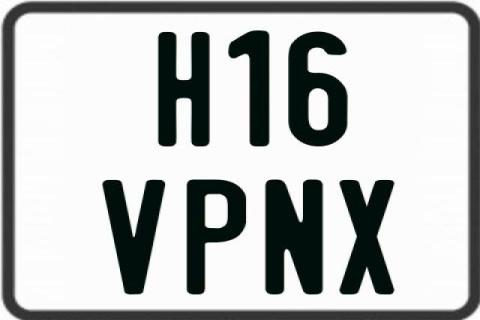0: (286, 31, 346, 146), (227, 29, 269, 149)
H: (158, 32, 214, 150)
N: (263, 177, 324, 292)
P: (185, 178, 249, 294)
V: (102, 177, 168, 297)
X: (339, 179, 395, 297)
